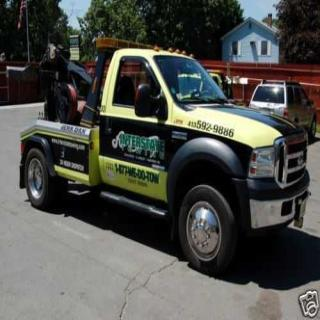Towing_truck: (18, 34, 312, 276)
